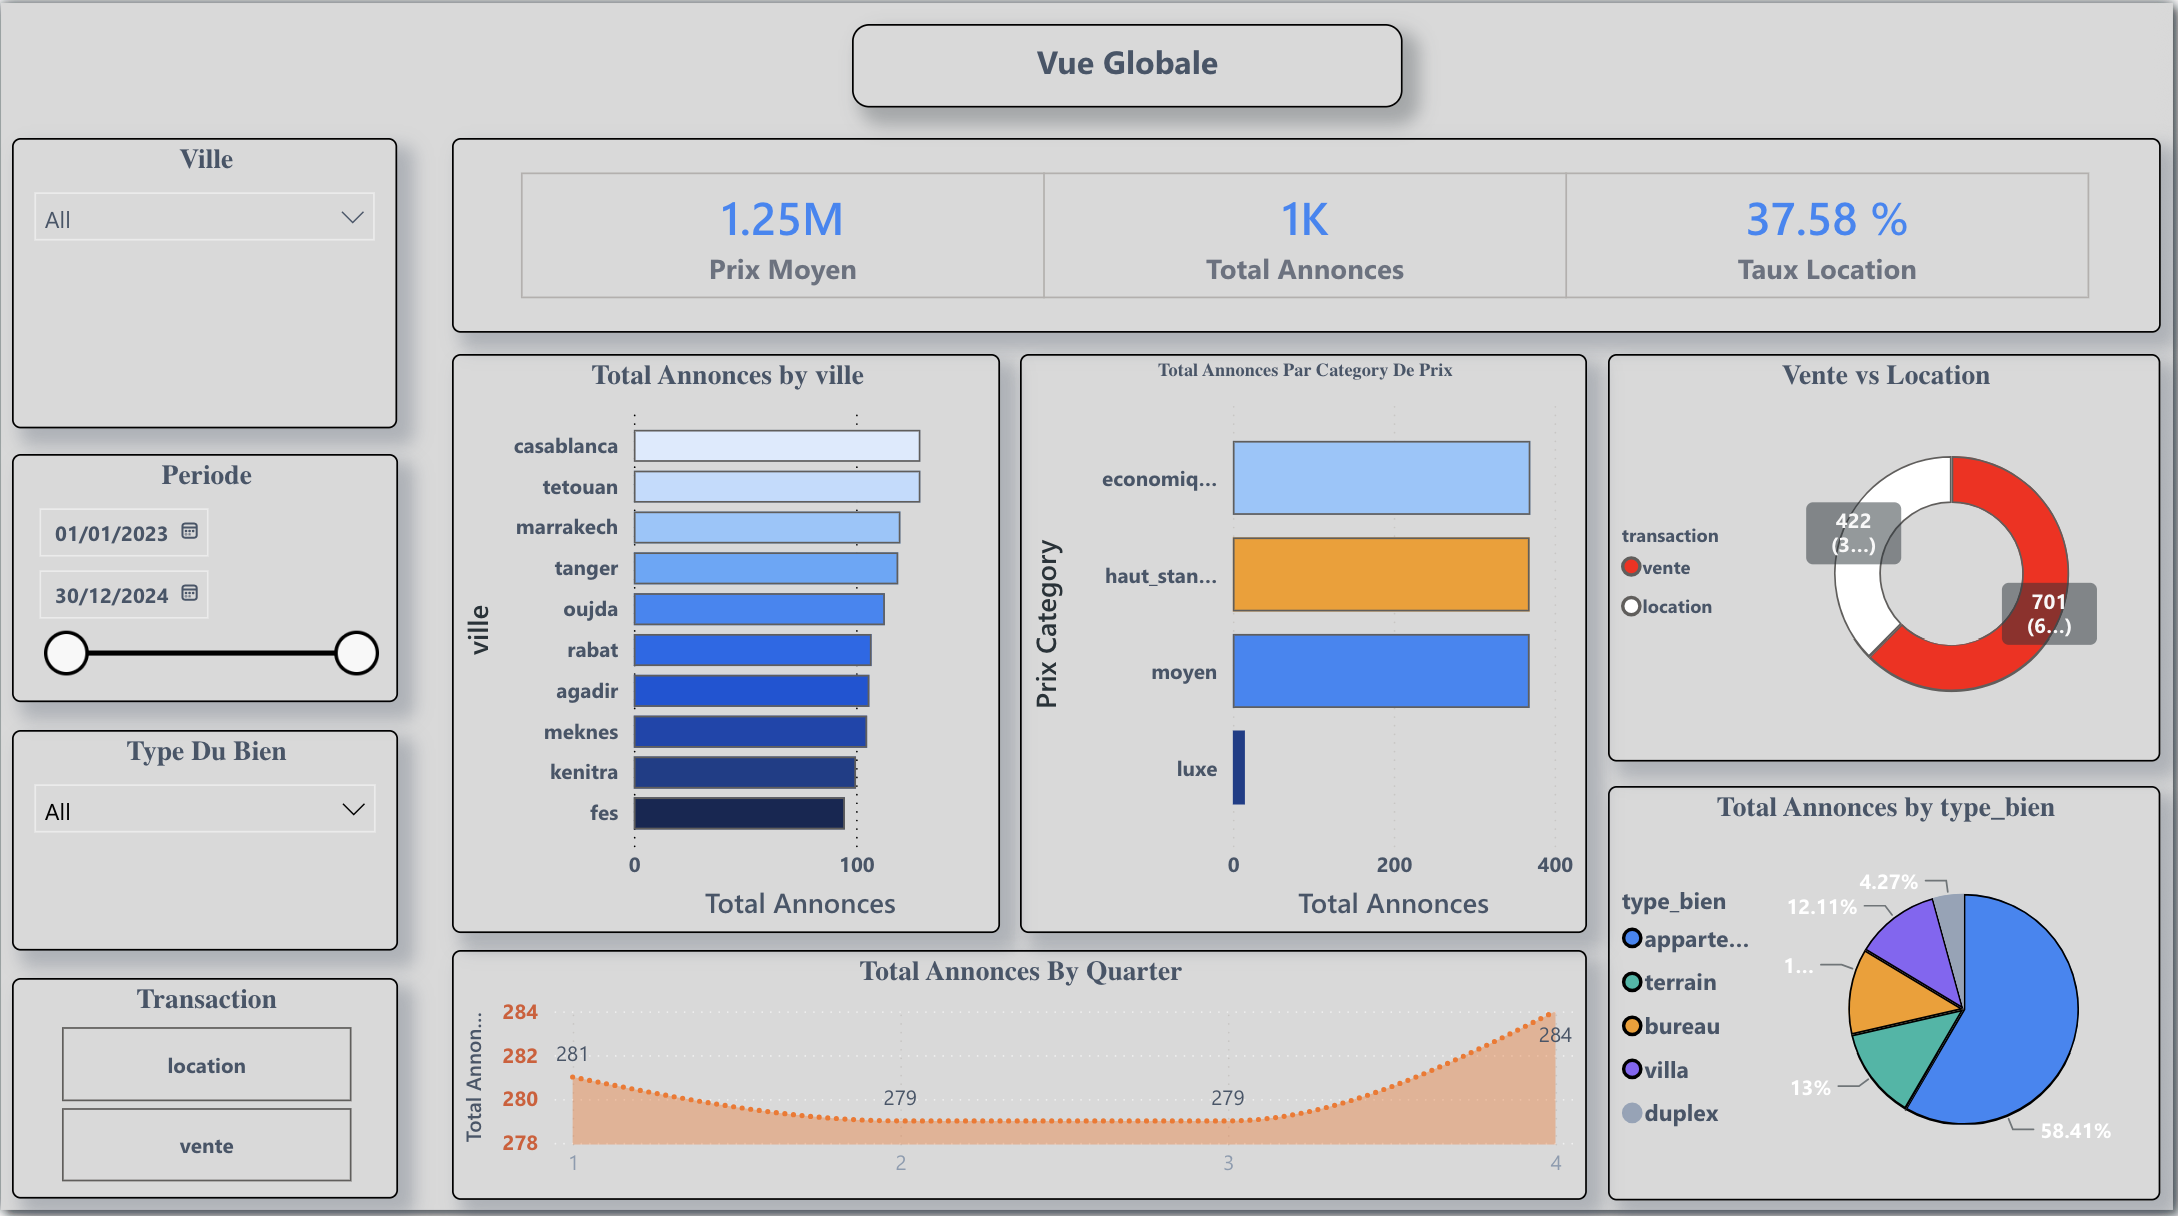

The page's visual inventory and layout, read from the dashboard file:
{"tool":"powerbi","page":{"name":"Vue Globale","canvas":[1280,720],"ordinal":1},"visuals":[{"type":"shape","box":[0,0,1280,720],"z":0},{"type":"cardVisual","fields":{"Data":["_measures_glob_page.Prix Moyen","_measures_glob_page.Total Annonces","_measures_glob_page.Taux Location"]},"box":[271.7,88.3,991.7,113.1],"z":1000},{"type":"textbox","box":[503.1,22.3,319.7,48.5],"z":2000},{"type":"clusteredBarChart","fields":{"Category":["gold subdim_ville.ville"],"Y":["_measures_glob_page.Total Annonces"]},"box":[271.5,213.8,317.9,336.2],"z":3000},{"type":"pieChart","fields":{"Category":["gold subdim_type_bien.type_bien"],"Y":["_measures_glob_page.Total Annonces"]},"box":[942.4,464.2,320.7,240.5],"z":4000},{"type":"clusteredBarChart","title":"Total Annonces Par Category De Prix","fields":{"Y":["_measures_glob_page.Total Annonces"],"Category":["gold dim_category.prix_category"]},"box":[600.6,213.8,329.1,336.2],"z":5000},{"type":"lineChart","title":"Total Annonces By Quarter","fields":{"Y":["_measures_glob_page.Total Annonces"],"Category":["gold dim_date.quarter"]},"box":[271.5,559.8,658.3,144.9],"z":6000},{"type":"slicer","title":"Ville","fields":{"Values":["gold subdim_ville.ville"]},"box":[16.6,88.3,223.4,168.3],"z":7000},{"type":"slicer","title":"Type Du Bien ","fields":{"Values":["gold subdim_type_bien.type_bien"]},"box":[16,432,224,128],"z":8000},{"type":"slicer","title":"Periode","fields":{"Values":["gold dim_date.date_publication"]},"box":[16,272,224,144],"z":9000},{"type":"slicer","title":"Transaction","fields":{"Values":["gold dim_transaction.transaction"]},"box":[16,576,224,128],"z":10000},{"type":"donutChart","title":"Vente vs Location","fields":{"Y":["_measures_glob_page.Total Annonces"],"Category":["gold dim_transaction.transaction"]},"box":[942.4,213.8,320.7,236.3],"z":11000}]}

Visuals, with their boxes in screenshot pixels (x1, y1, x2, y2), scaled from the page's 1280x720 canvas onto the 2178x1216 screenshot:
shape: <bbox>0, 0, 2177, 1215</bbox>
cardVisual - _measures_glob_page.Prix Moyen x _measures_glob_page.Total Annonces: <bbox>462, 149, 2150, 340</bbox>
textbox: <bbox>856, 38, 1400, 120</bbox>
clusteredBarChart - gold subdim_ville.ville x _measures_glob_page.Total Annonces: <bbox>462, 361, 1003, 929</bbox>
pieChart - gold subdim_type_bien.type_bien x _measures_glob_page.Total Annonces: <bbox>1604, 784, 2149, 1190</bbox>
"Total Annonces Par Category De Prix" clusteredBarChart: <bbox>1022, 361, 1582, 929</bbox>
"Total Annonces By Quarter" lineChart: <bbox>462, 945, 1582, 1190</bbox>
"Ville" slicer: <bbox>28, 149, 408, 433</bbox>
"Type Du Bien " slicer: <bbox>27, 730, 408, 946</bbox>
"Periode" slicer: <bbox>27, 459, 408, 703</bbox>
"Transaction" slicer: <bbox>27, 973, 408, 1189</bbox>
"Vente vs Location" donutChart: <bbox>1604, 361, 2149, 760</bbox>
